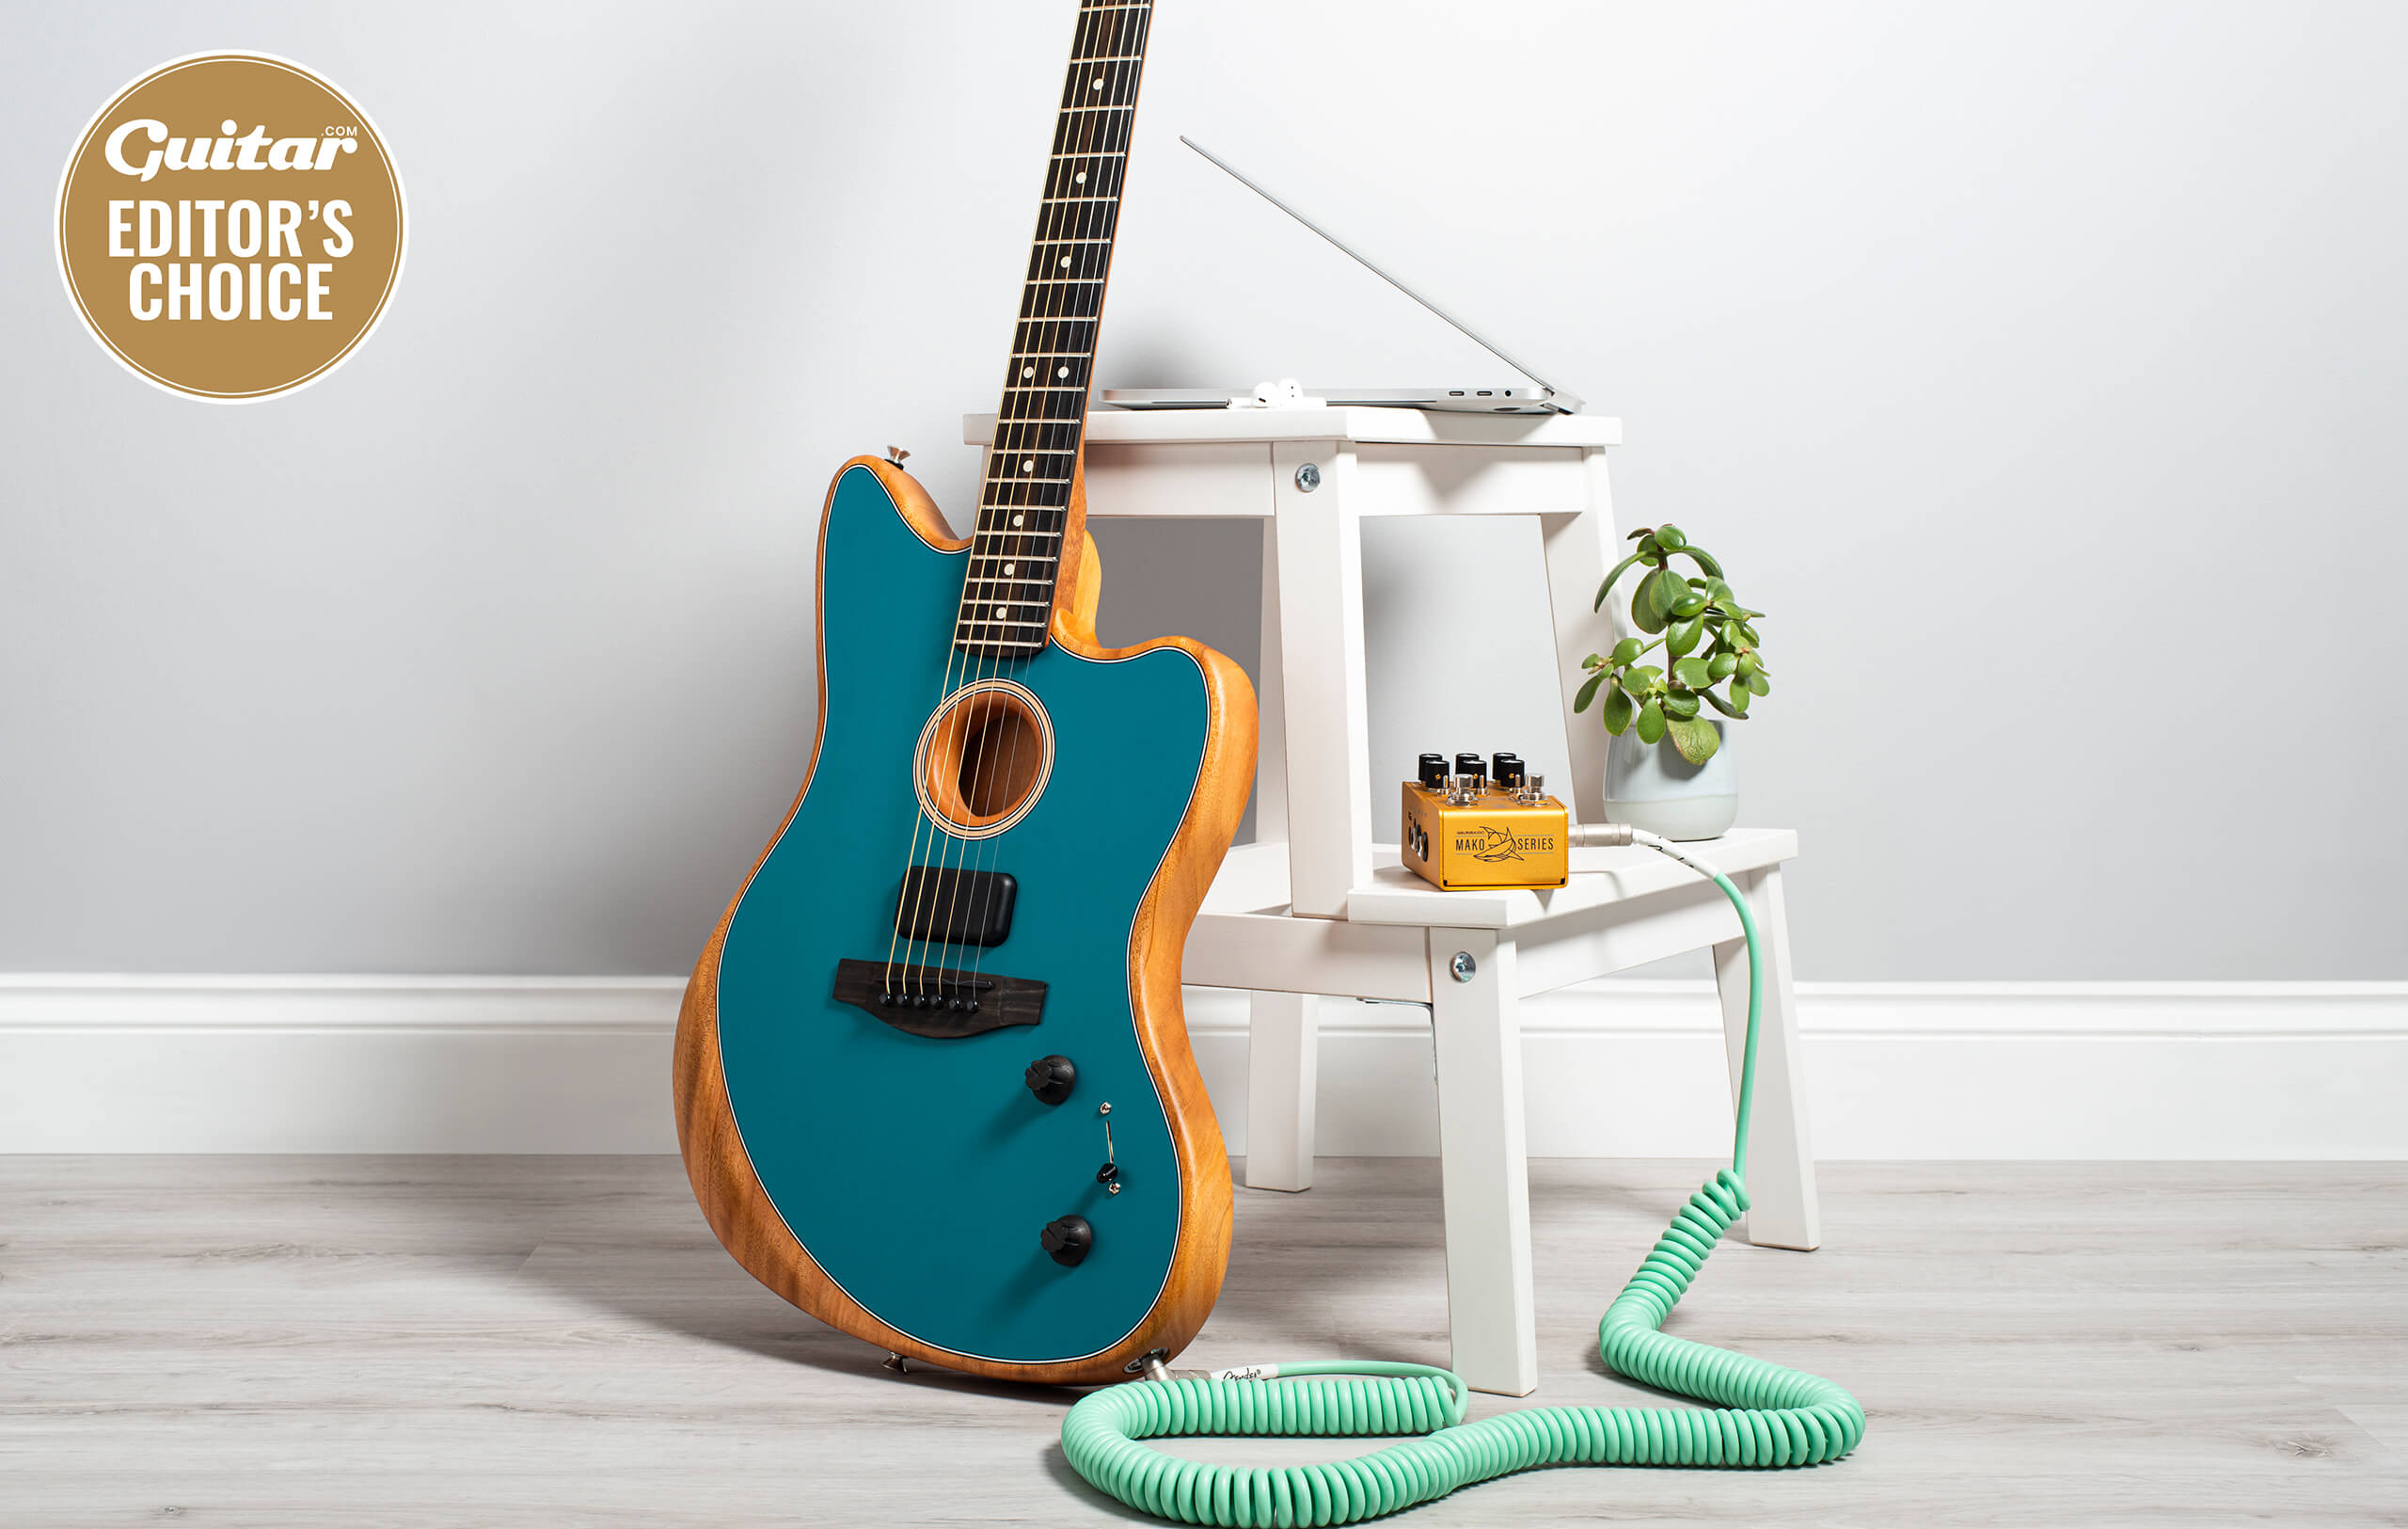guitar: (649, 7, 1251, 1359)
